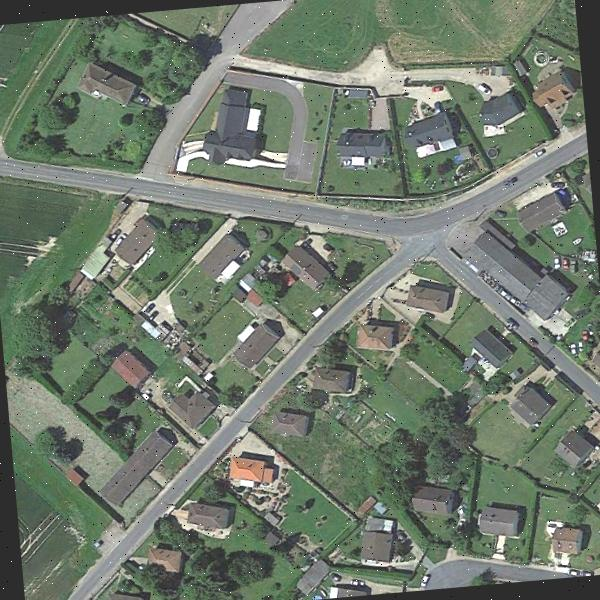Buildings: (468, 240, 562, 321), (202, 86, 268, 162), (102, 438, 172, 506), (80, 53, 142, 104), (470, 89, 530, 128), (284, 248, 329, 290), (200, 235, 240, 282), (118, 222, 153, 274), (225, 454, 281, 485), (236, 326, 280, 365), (514, 193, 557, 231), (405, 114, 452, 148), (534, 76, 584, 105), (338, 126, 387, 154), (556, 430, 593, 466), (475, 507, 524, 533), (174, 392, 209, 426), (353, 321, 397, 348), (406, 284, 451, 310), (514, 391, 558, 417), (551, 523, 581, 561), (471, 332, 508, 362), (185, 501, 227, 527), (114, 354, 150, 384), (412, 486, 450, 514), (318, 367, 352, 395), (276, 411, 312, 436), (364, 532, 390, 562), (154, 550, 180, 570), (93, 593, 142, 600)
